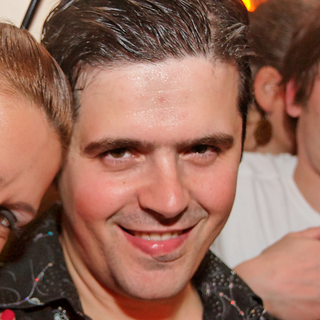eye: (93, 141, 146, 164), (177, 139, 225, 162)
